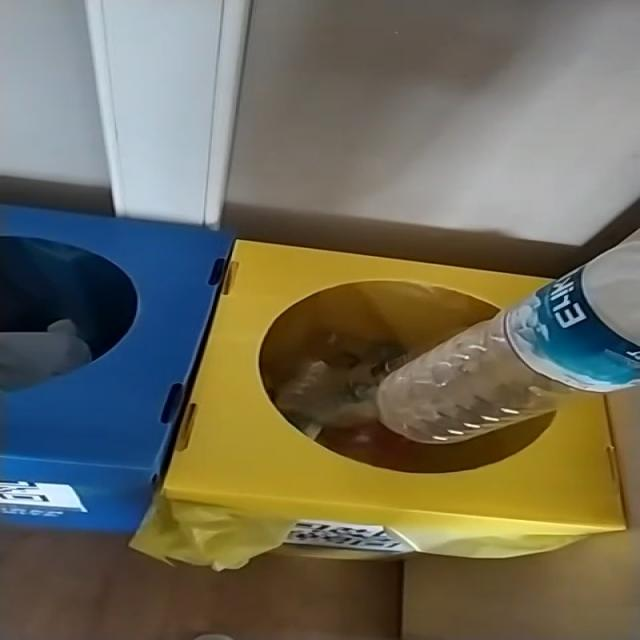plastic: (376, 236, 639, 444)
